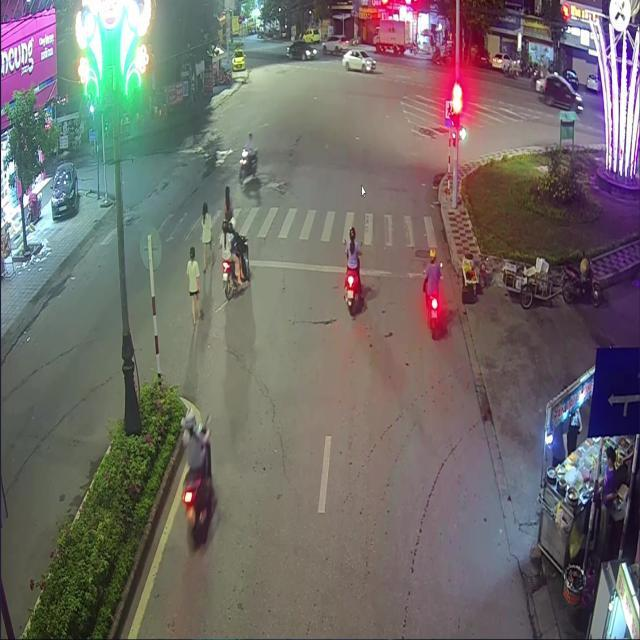motobike: (182, 427, 212, 545), (222, 235, 249, 300), (423, 290, 441, 338), (343, 268, 361, 314)
red_light: (452, 97, 459, 127)
stop_line: (231, 258, 442, 280)
